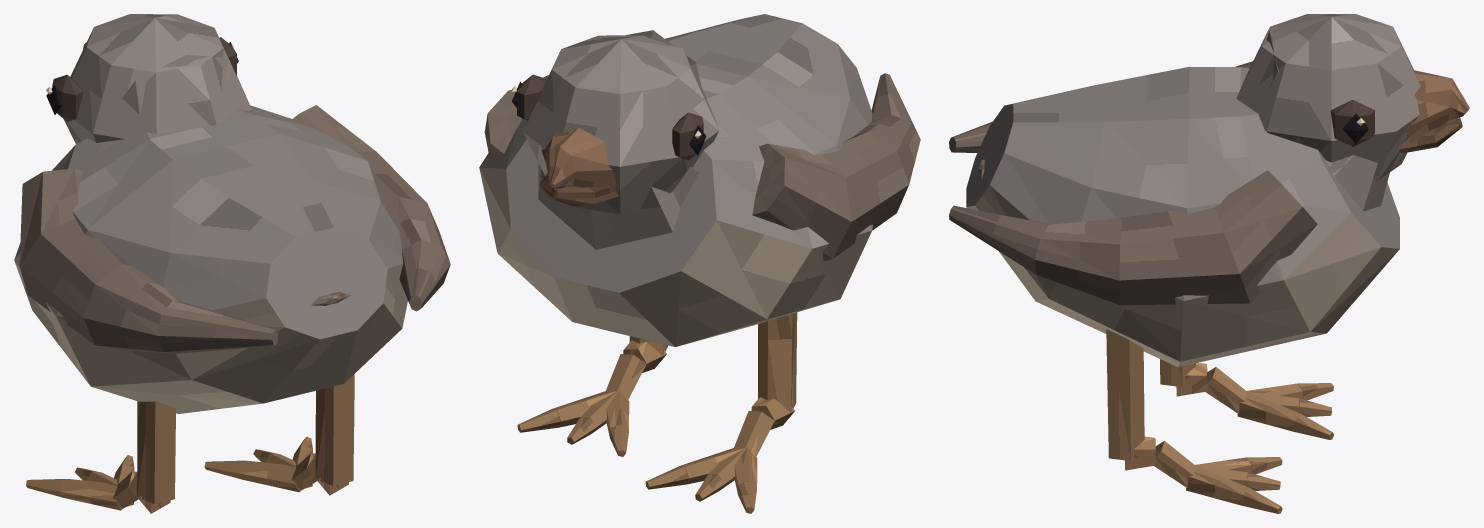
The model's file is mon_waxwing_chick.glb.
3 renders of one model, left to right at view 1: azimuth 30°, elevation 25°; view 2: azimuth 150°, elevation 25°; view 3: azimuth 270°, elevation 25°, orthographic.
Parts seen in each view (by area): view 1: closed_body; view 2: closed_body; view 3: closed_body.
Part boxes in pixels (box(x1,y1,x2,y2)): closed_body: box(14, 14, 450, 513); closed_body: box(479, 14, 920, 513); closed_body: box(949, 14, 1469, 513).
Bounding box in the file's own units: 0.0347 × 0.0402 × 0.0434.
Materials: 1 (1 with a texture image).
